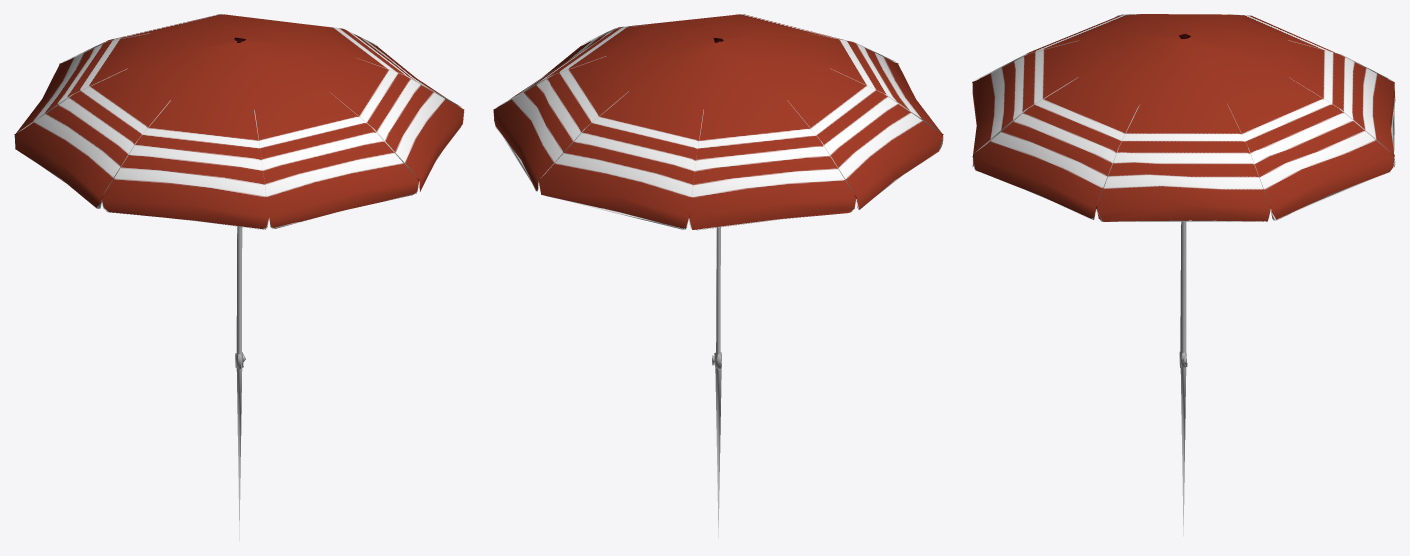
File: sombrillaB.obj
3 renders of one model, left to right at view 1: azimuth 30°, elevation 25°; view 2: azimuth 150°, elevation 25°; view 3: azimuth 270°, elevation 25°, orthographic.
Parts seen in each view (by area): view 1: Sun_Umbrella_opened_Mesh.011; view 2: Sun_Umbrella_opened_Mesh.011; view 3: Sun_Umbrella_opened_Mesh.011.
Boxes of the visible parts, left/top/right/bottom form: Sun_Umbrella_opened_Mesh.011: left=14, top=14, right=464, bottom=540; Sun_Umbrella_opened_Mesh.011: left=493, top=14, right=943, bottom=537; Sun_Umbrella_opened_Mesh.011: left=972, top=14, right=1395, bottom=536.
Size of the model in its own units: 1.24 by 1.63 by 1.24.
6 materials, 1 textured.
